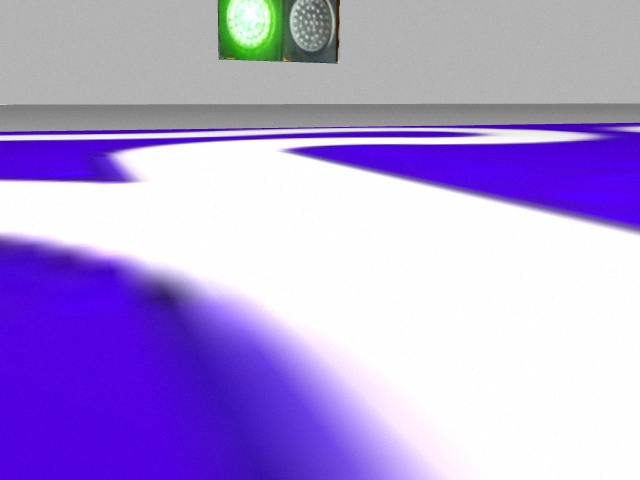green: (219, 2, 282, 60)
